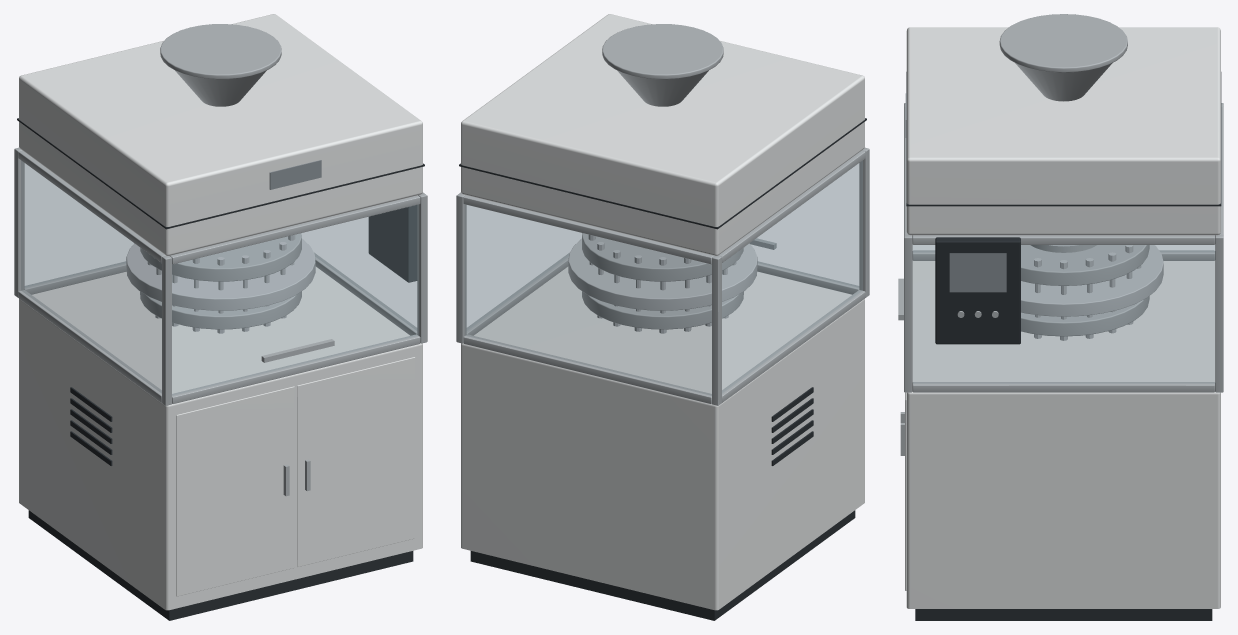
Rendered from press.glb.
3 views of the same model, side by side, from view 1: azimuth 30°, elevation 25°; view 2: azimuth 150°, elevation 25°; view 3: azimuth 270°, elevation 25° (orthographic). The views are drawn at different scales.
Visible parts, largest first — view 1: body, cover, head, rotor, hopper, panel, punches; view 2: body, cover, head, rotor, hopper, punches; view 3: body, head, cover, rotor, panel, hopper, punches.
Part boxes in pixels (bbox=[...]): body: bbox=[19, 267, 422, 620]; cover: bbox=[14, 147, 427, 405]; head: bbox=[17, 14, 424, 255]; rotor: bbox=[126, 233, 315, 329]; hopper: bbox=[160, 24, 281, 106]; panel: bbox=[368, 205, 417, 282]; punches: bbox=[147, 234, 295, 333]; body: bbox=[461, 267, 864, 620]; cover: bbox=[456, 147, 869, 405]; head: bbox=[459, 14, 866, 255]; rotor: bbox=[568, 233, 757, 329]; hopper: bbox=[602, 24, 723, 106]; punches: bbox=[588, 234, 736, 333]; body: bbox=[900, 260, 1220, 620]; head: bbox=[905, 27, 1221, 235]; cover: bbox=[898, 103, 1223, 392]; rotor: bbox=[1021, 245, 1163, 336]; panel: bbox=[935, 237, 1020, 344]; hopper: bbox=[999, 14, 1127, 101]; punches: bbox=[1034, 245, 1141, 340].
Bounding box in the file's own units: 1.16 × 2 × 1.14.
